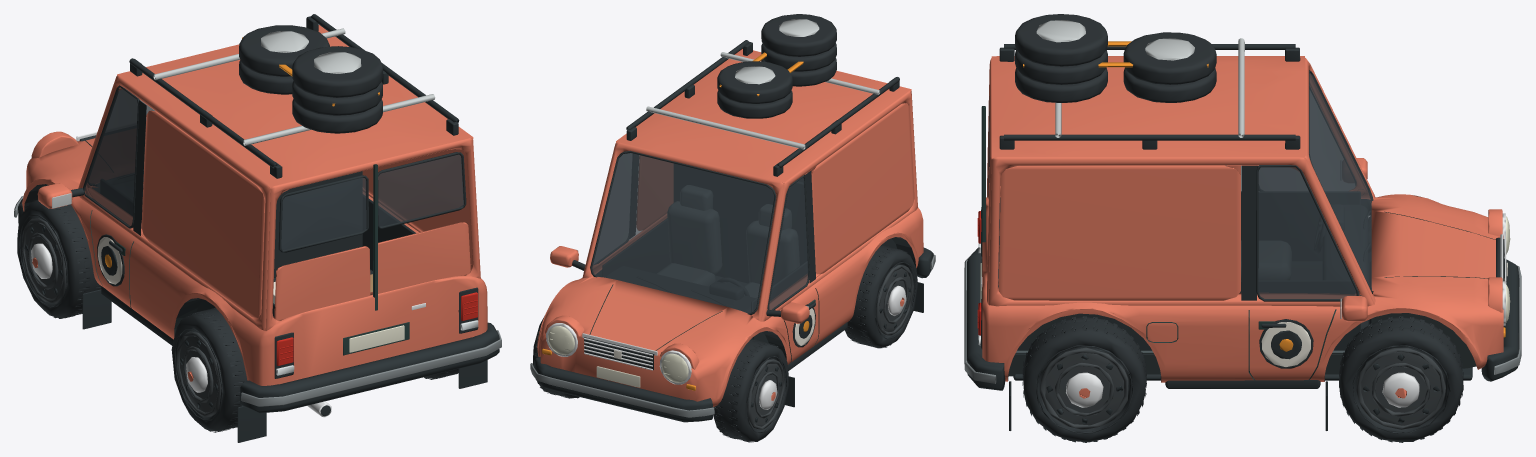
Rendered from pitparts_lod2.fbx.
3 views of the same model, side by side, from view 1: azimuth 30°, elevation 25°; view 2: azimuth 150°, elevation 25°; view 3: azimuth 270°, elevation 25° (orthographic). The views are drawn at different scales.
Parts seen in each view (by area): view 1: Body, Wheel_FL_Mesh, Wheel_RL_Mesh; view 2: Body, Wheel_FL_Mesh, Wheel_RL_Mesh; view 3: Body, Wheel_FR_Mesh, Wheel_RR_Mesh.
Boxes of the visible parts, left/top/right/bottom form: Body: left=14, top=14, right=501, bottom=442; Wheel_FL_Mesh: left=17, top=200, right=101, bottom=318; Wheel_RL_Mesh: left=171, top=307, right=247, bottom=432; Body: left=530, top=14, right=935, bottom=422; Wheel_FL_Mesh: left=713, top=339, right=788, bottom=442; Wheel_RL_Mesh: left=845, top=245, right=917, bottom=348; Body: left=964, top=14, right=1521, bottom=430; Wheel_FR_Mesh: left=1339, top=316, right=1463, bottom=442; Wheel_RR_Mesh: left=1022, top=316, right=1146, bottom=442.
Bounding box in the file's own units: 230 × 250 × 359.
